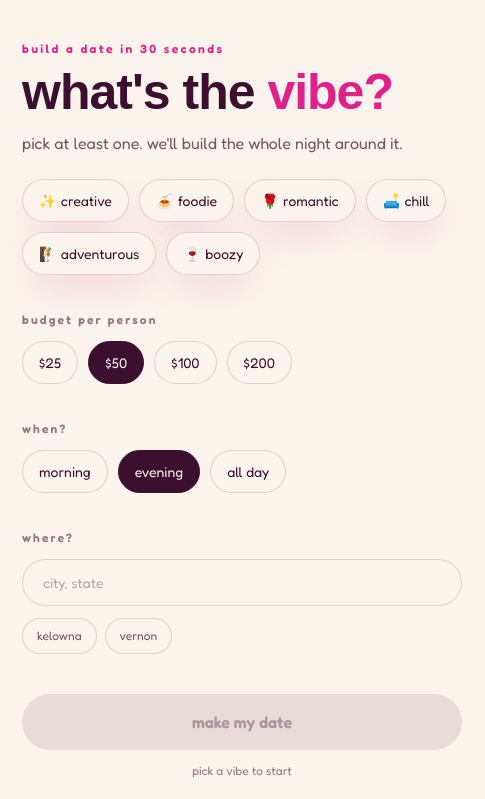
Test: FLOW-01 primary-path wiring (offline) › anon path — generation stays inline on the teaser, never the canvas
The image size is (485, 799).
Click the button "✨creative" at (75, 200), box [22,178,129,222]
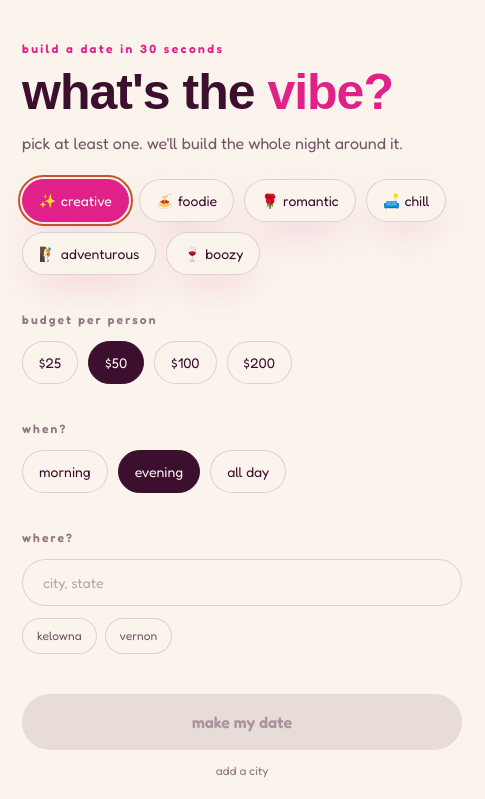
Click the button "kelowna" at (59, 636), box [22,618,97,654]
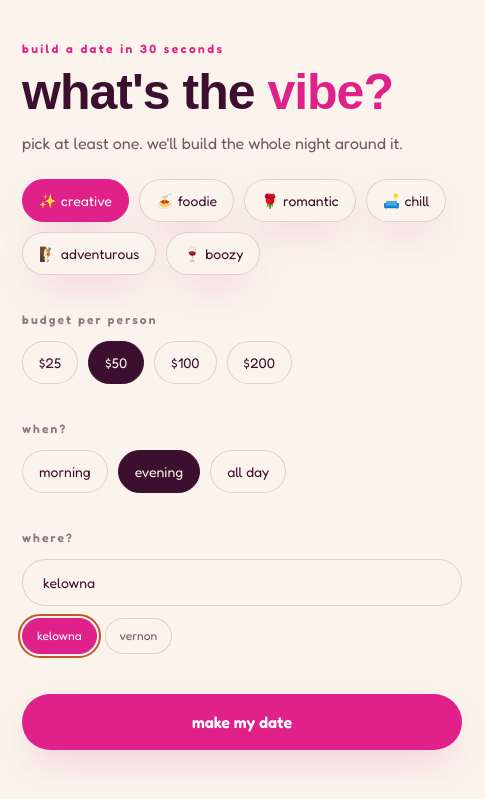
Click the button "make my date" at (242, 722), box [22,694,462,750]
(page scrolled)
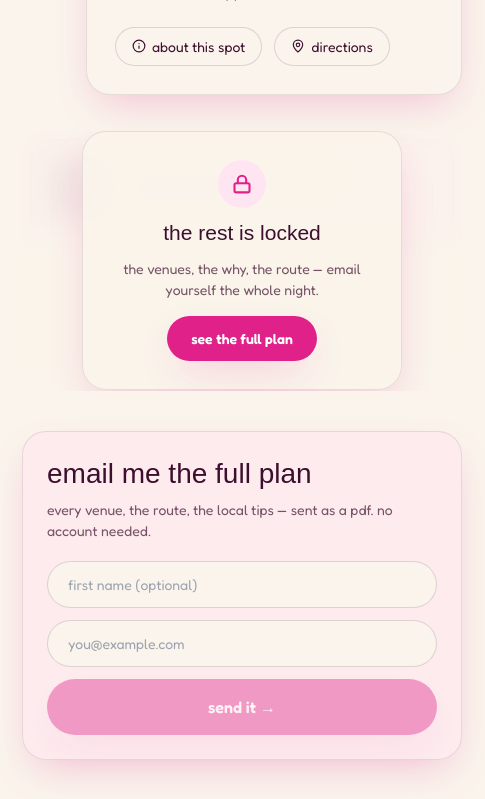
Expected: the text "email me the full plan" is shown, [47,458,312,489]
